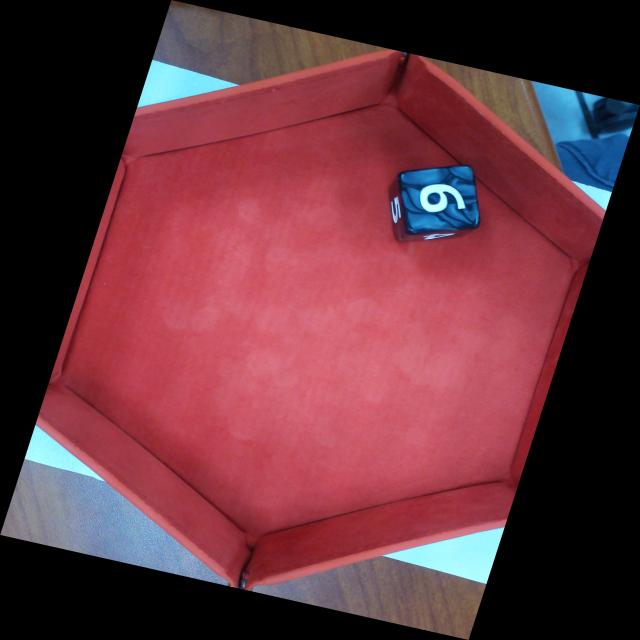dice: (404, 168, 478, 230)
